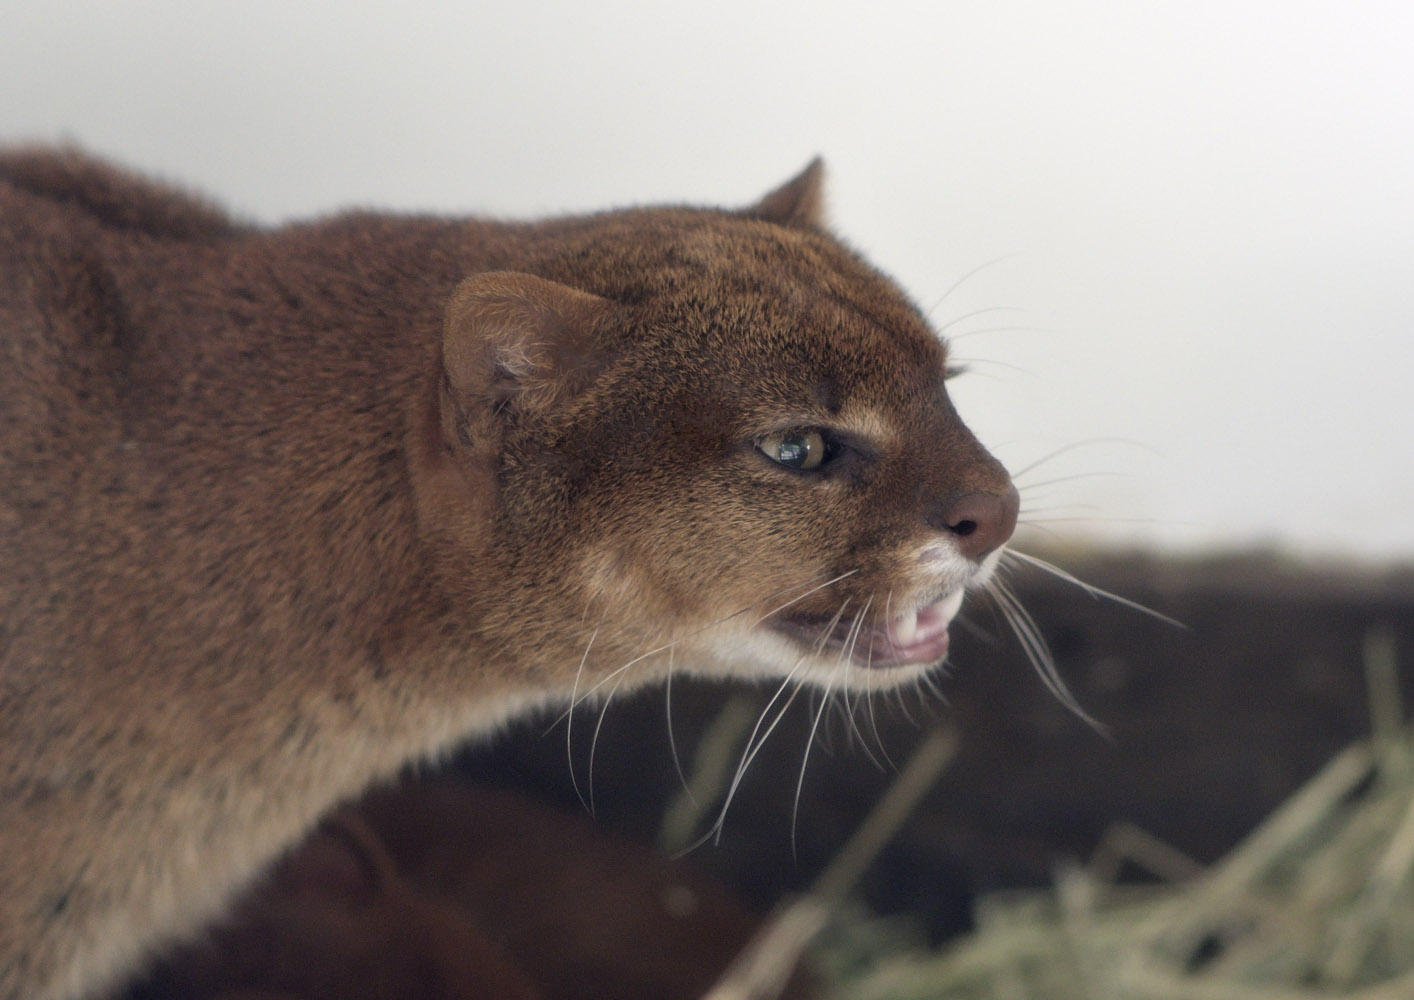Jaguarundi: (0, 124, 1081, 908)
